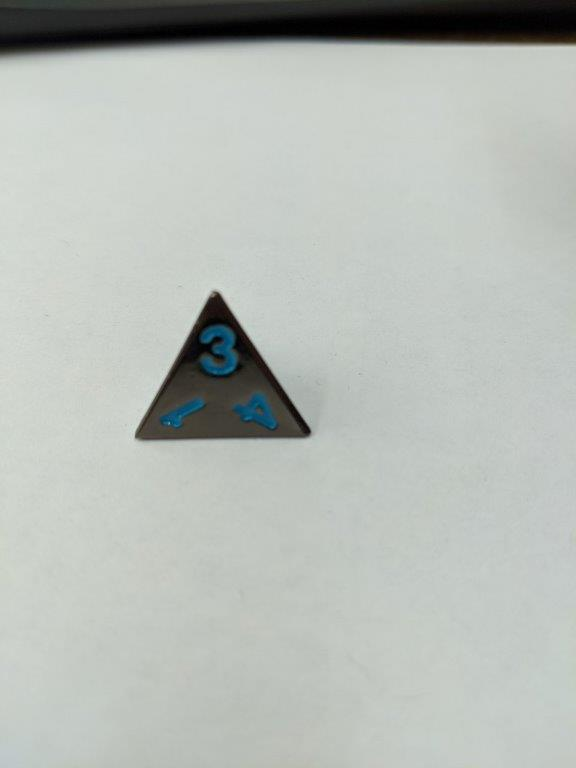d4-3: (132, 287, 314, 448)
